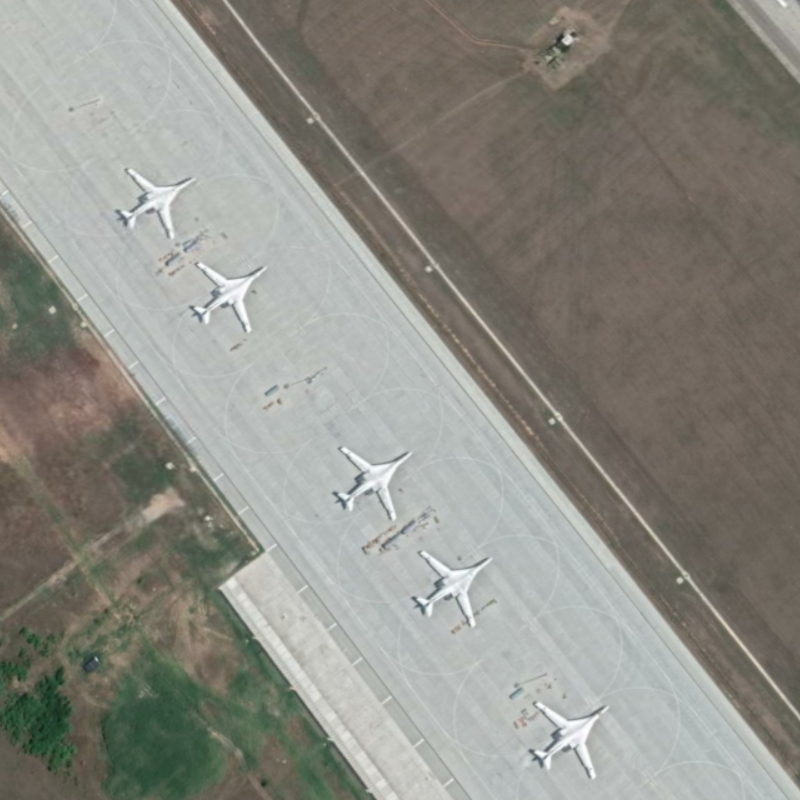A6: (527, 691, 614, 785), (408, 544, 498, 632), (182, 254, 271, 339), (327, 440, 414, 524), (113, 163, 197, 244)
